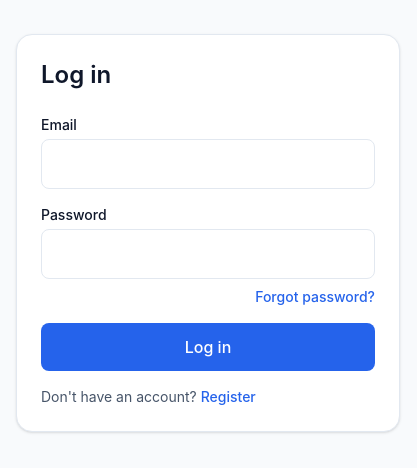
it: LoginPage › shows a friendly error on invalid credentials, without leaking which field was wrong
In the field labelled "Email": (208, 164) [41,139,375,189], type "user@example.com"
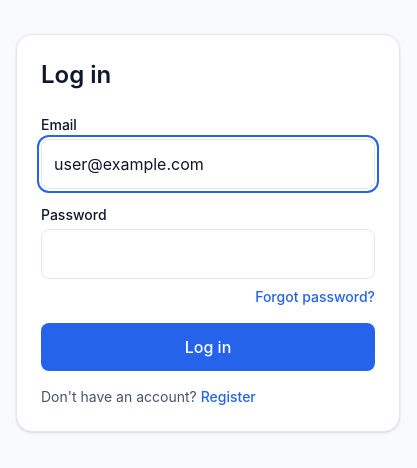
In the password field labelled "Password": (208, 254) [41,229,375,279], type "WrongPassword1"
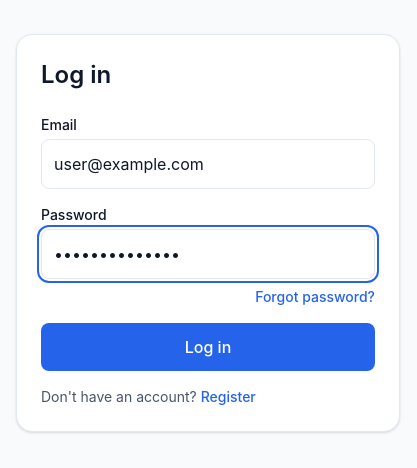
Click the button "Log in": (208, 347) [41,323,375,371]
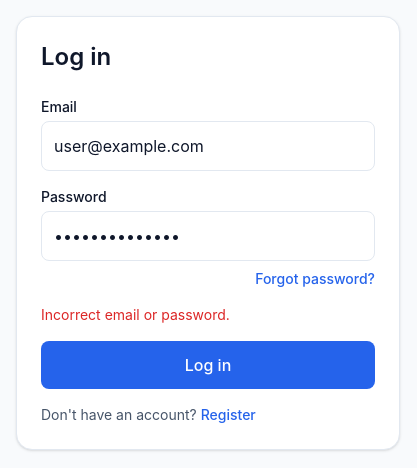
Check: the text "Incorrect email or password." is shown, box [41,306,230,323]
